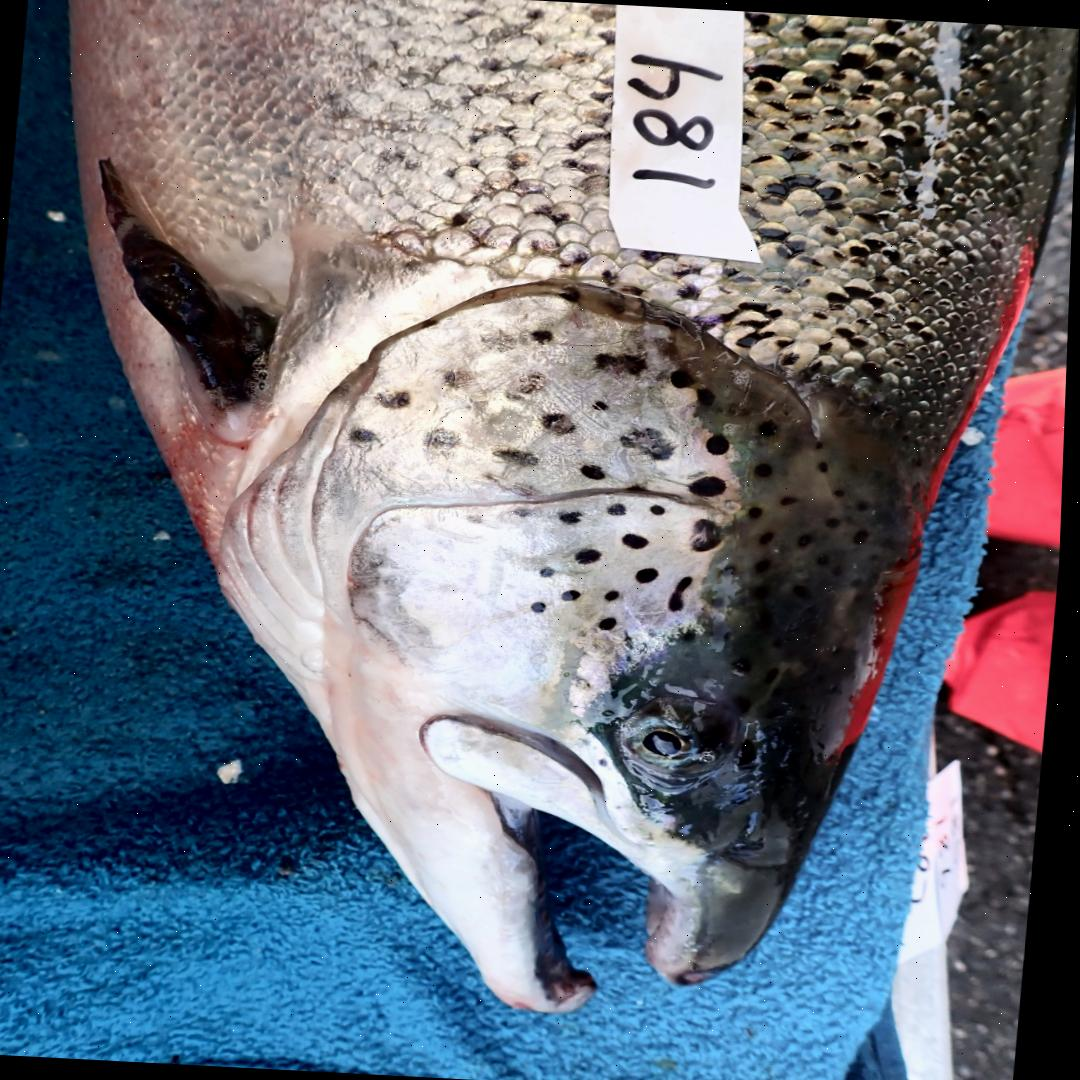spot: (622, 427, 677, 459), (592, 350, 652, 372), (484, 472, 540, 494), (696, 517, 726, 550), (495, 446, 543, 465), (673, 576, 696, 611), (485, 328, 520, 351), (692, 475, 730, 495), (508, 373, 542, 395), (425, 427, 462, 447), (544, 410, 574, 433), (380, 390, 413, 408), (710, 433, 733, 454), (444, 368, 472, 385), (674, 367, 695, 387), (351, 427, 381, 441), (580, 546, 604, 562), (625, 533, 652, 547), (640, 567, 661, 583), (562, 510, 586, 524), (584, 464, 607, 478), (610, 501, 631, 515), (533, 328, 554, 342), (700, 387, 717, 404), (682, 626, 701, 641), (565, 588, 585, 601), (604, 616, 622, 630), (468, 510, 485, 524), (563, 286, 580, 300), (516, 503, 534, 516), (627, 629, 637, 651), (534, 599, 549, 611), (654, 503, 669, 515), (543, 566, 558, 576), (595, 400, 610, 410), (609, 590, 624, 599), (92, 90, 100, 95)
